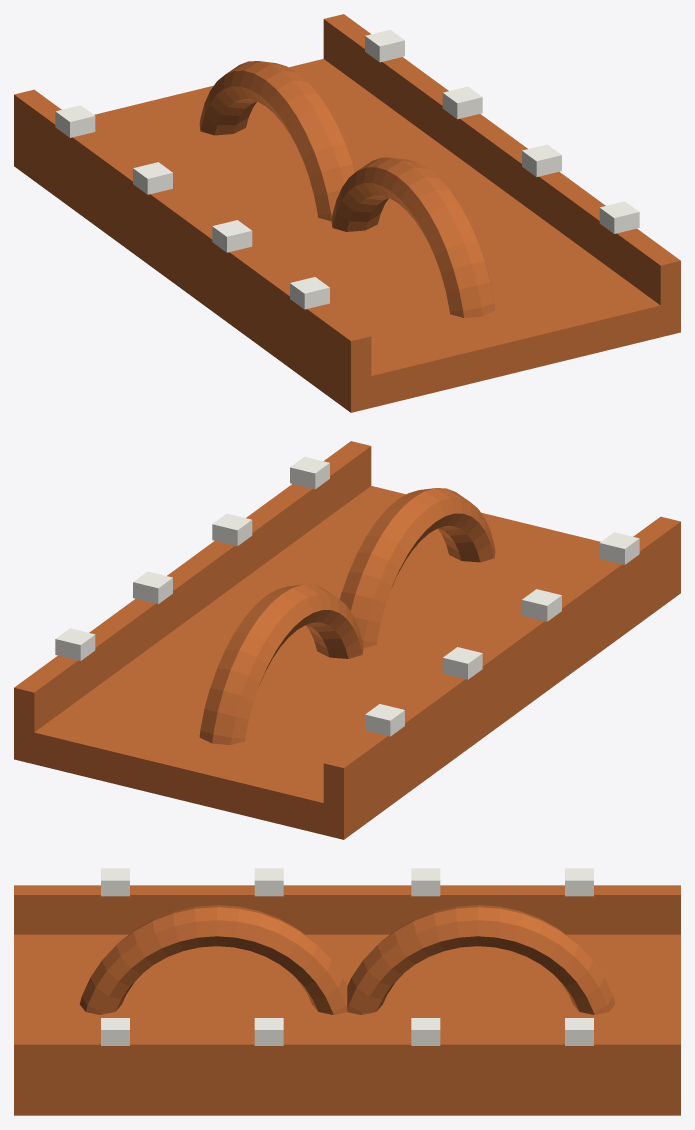
Rendered from hito_puente-ortiz.glb.
3 renders of one model, top to bottom at view 1: azimuth 30°, elevation 25°; view 2: azimuth 150°, elevation 25°; view 3: azimuth 270°, elevation 25°, orthographic.
Parts seen in each view (by area): view 1: hito_puente-ortiz; view 2: hito_puente-ortiz; view 3: hito_puente-ortiz.
Boxes of the visible parts, <box> form: hito_puente-ortiz: <box>14,14,680,412</box>; hito_puente-ortiz: <box>14,441,680,839</box>; hito_puente-ortiz: <box>14,868,680,1115</box>.
Size of the model in its own units: 1.32 by 0.49 by 2.3.
